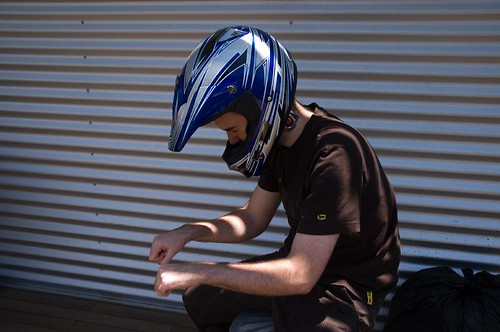helmet: (167, 14, 301, 114)
